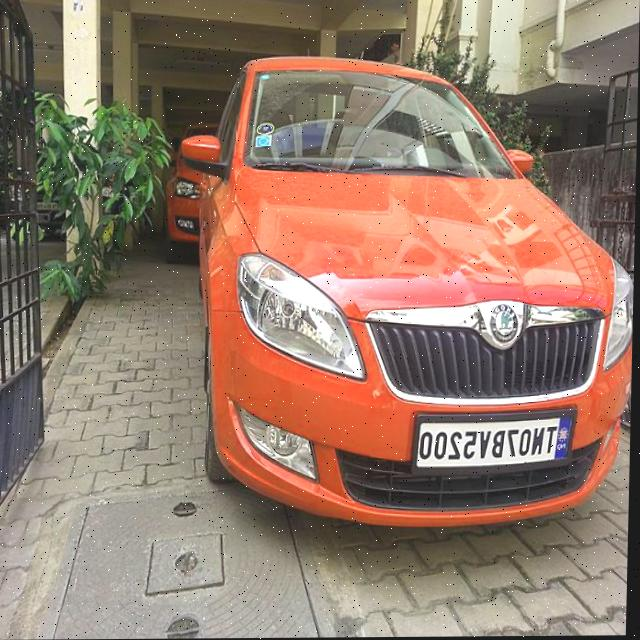plate: (415, 408, 580, 473)
